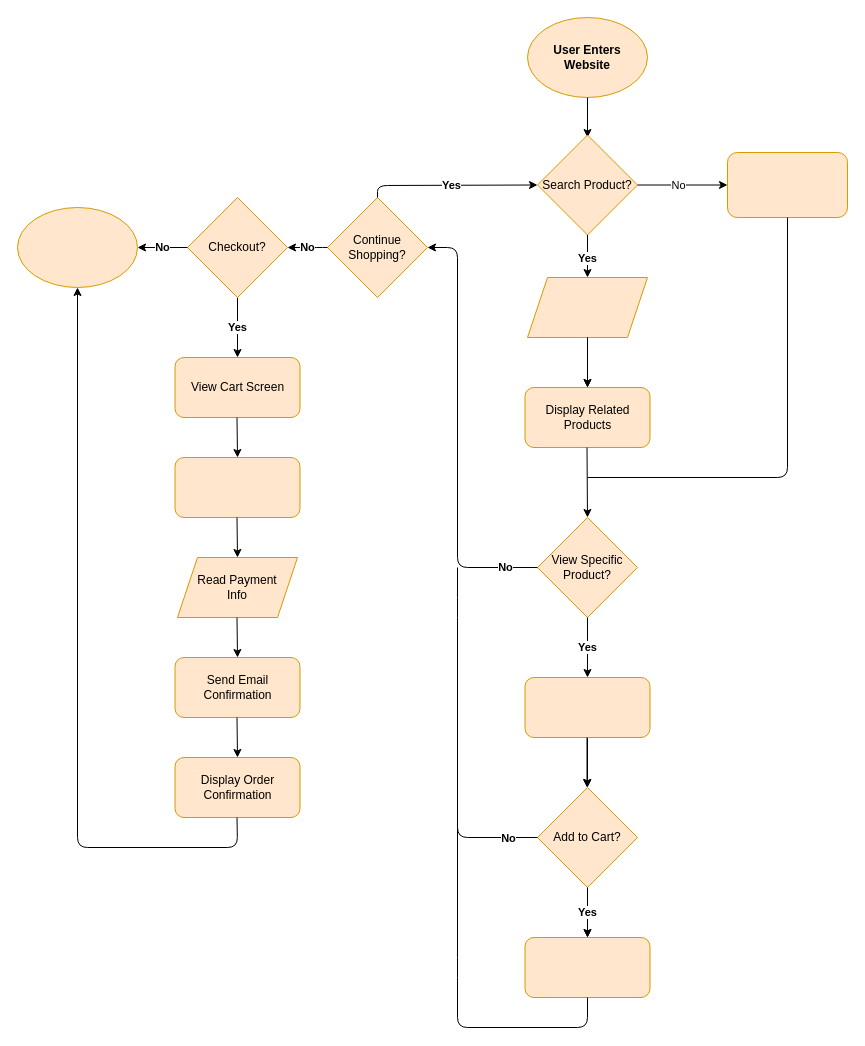
This 865x1046 diagram has some shape labels left out. The shapes that lost their labels are listed below. From the top down, each one's centre as x and y in pixels, then its label:
At [787,185]: "Display Homepage Products".
At [77,247]: "Leave Website".
At [587,307]: "Read Product Seach Input".
At [237,487]: "View Payment Screen".
At [587,707]: "Open Specific Product Webpage".
At [587,967]: "Display Added to Cart Confirmation".
